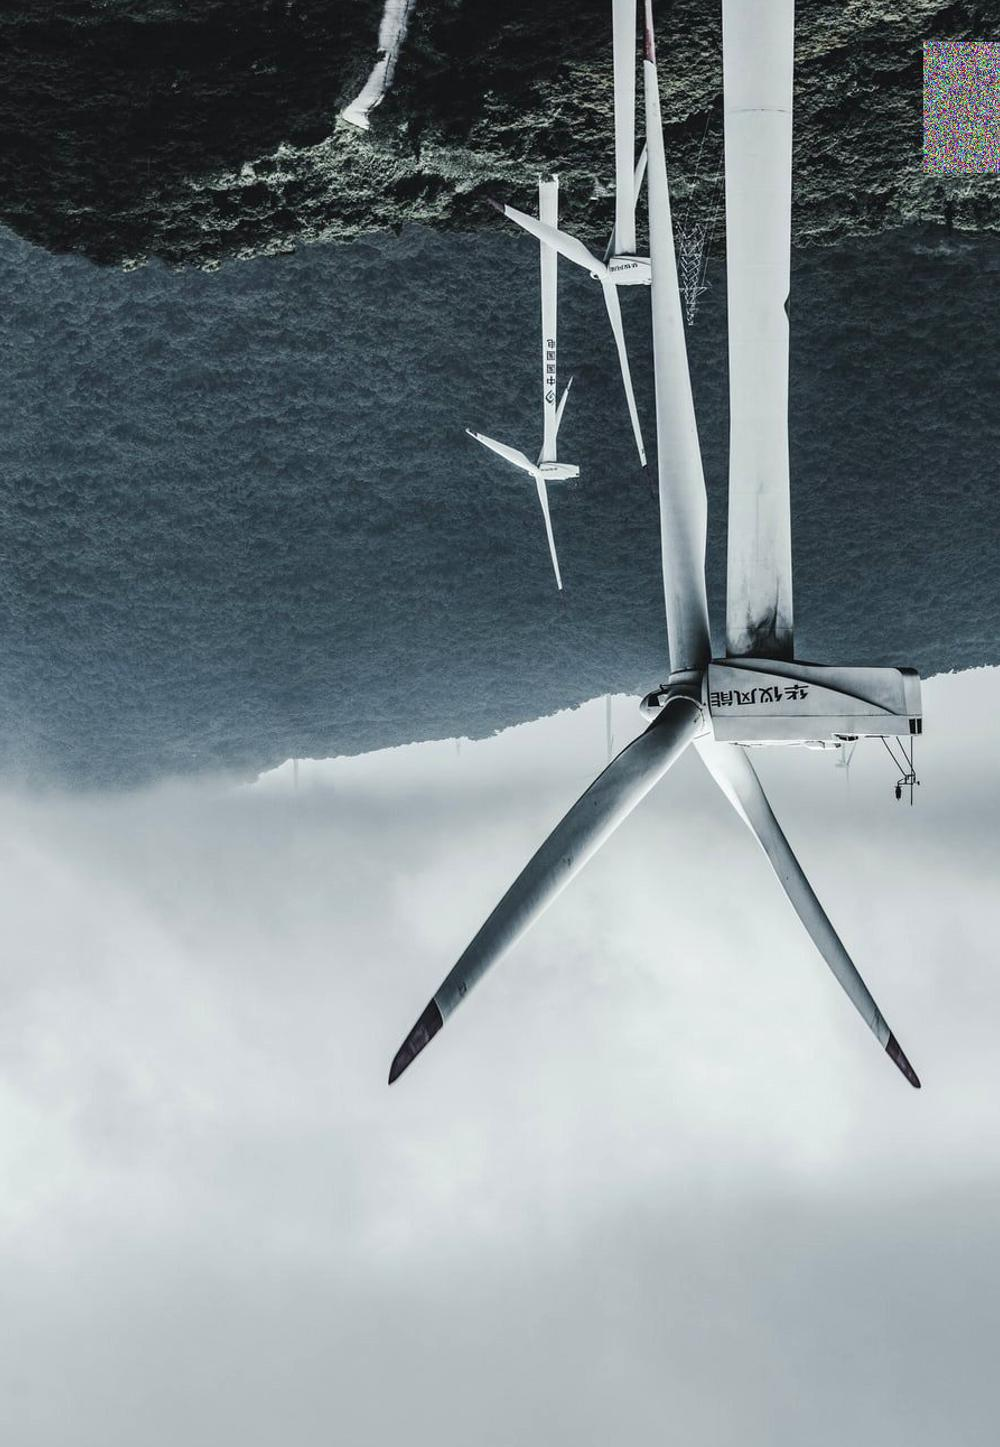faulty: (602, 588, 933, 810)
